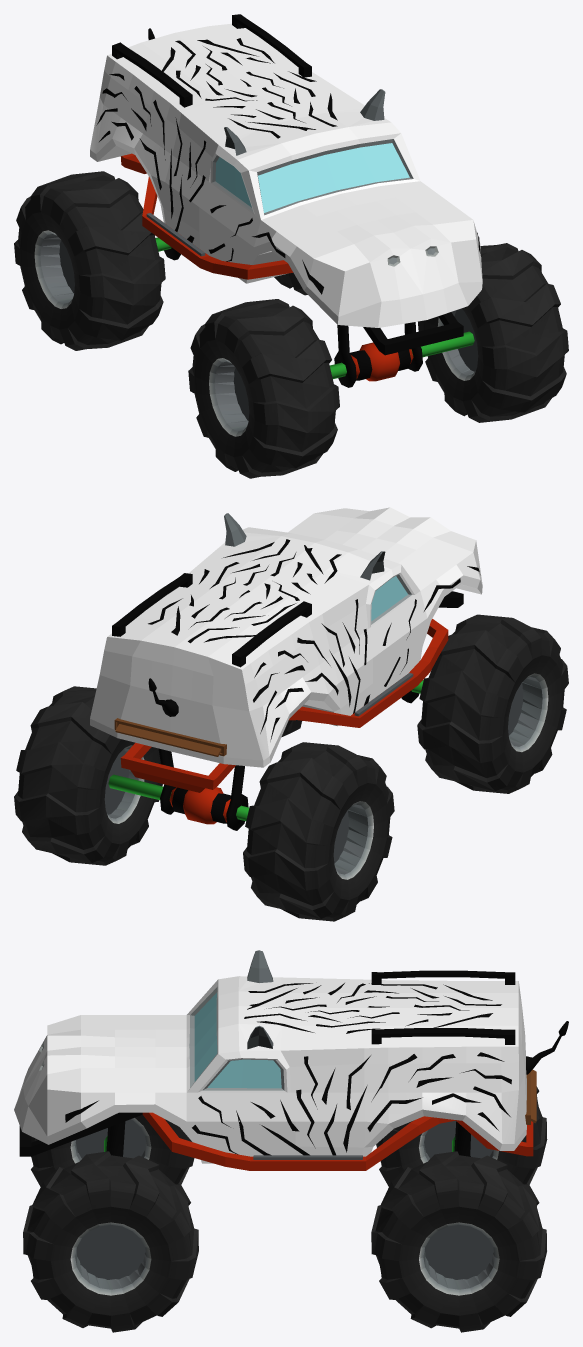
Rendered from Zebra.fbx.
3 renders of one model, top to bottom at view 1: azimuth 30°, elevation 25°; view 2: azimuth 150°, elevation 25°; view 3: azimuth 270°, elevation 25°, orthographic.
Parts seen in each view (by area): view 1: Monster_Truck_Body, Wheel_FR, Wheel_RR, Wheel_FL, Monster_Truck_Livery, Axel Front; view 2: Monster_Truck_Body, Wheel_RR, Wheel_FR, Wheel_RL, Monster_Truck_Livery, Axel Back; view 3: Monster_Truck_Body, Wheel_RL, Wheel_FL, Monster_Truck_Livery, Wheel_FR, Wheel_RR, Axel Front, Axel Back.
Part boxes in pixels (left/top/right/bottom): Monster_Truck_Body: left=90, top=14, right=482, bottom=355; Wheel_FR: left=188, top=299, right=339, bottom=478; Wheel_RR: left=14, top=171, right=165, bottom=350; Wheel_FL: left=418, top=243, right=568, bottom=422; Monster_Truck_Livery: left=96, top=28, right=480, bottom=294; Axel Front: left=330, top=322, right=474, bottom=387; Monster_Truck_Body: left=90, top=507, right=482, bottom=792; Wheel_RR: left=243, top=742, right=394, bottom=921; Wheel_FR: left=417, top=614, right=568, bottom=793; Wheel_RL: left=14, top=686, right=162, bottom=865; Monster_Truck_Livery: left=114, top=539, right=480, bottom=756; Axel Back: left=108, top=748, right=249, bottom=830; Monster_Truck_Body: left=14, top=950, right=533, bottom=1170; Wheel_RL: left=371, top=1151, right=546, bottom=1332; Wheel_FL: left=23, top=1151, right=198, bottom=1332; Monster_Truck_Livery: left=65, top=983, right=568, bottom=1155; Wheel_FR: left=31, top=1115, right=194, bottom=1186; Wheel_RR: left=376, top=1086, right=547, bottom=1186; Axel Front: left=104, top=1121, right=125, bottom=1156; Axel Back: left=452, top=1121, right=470, bottom=1156.
Bounding box in the file's own units: 485 × 417 × 758.
